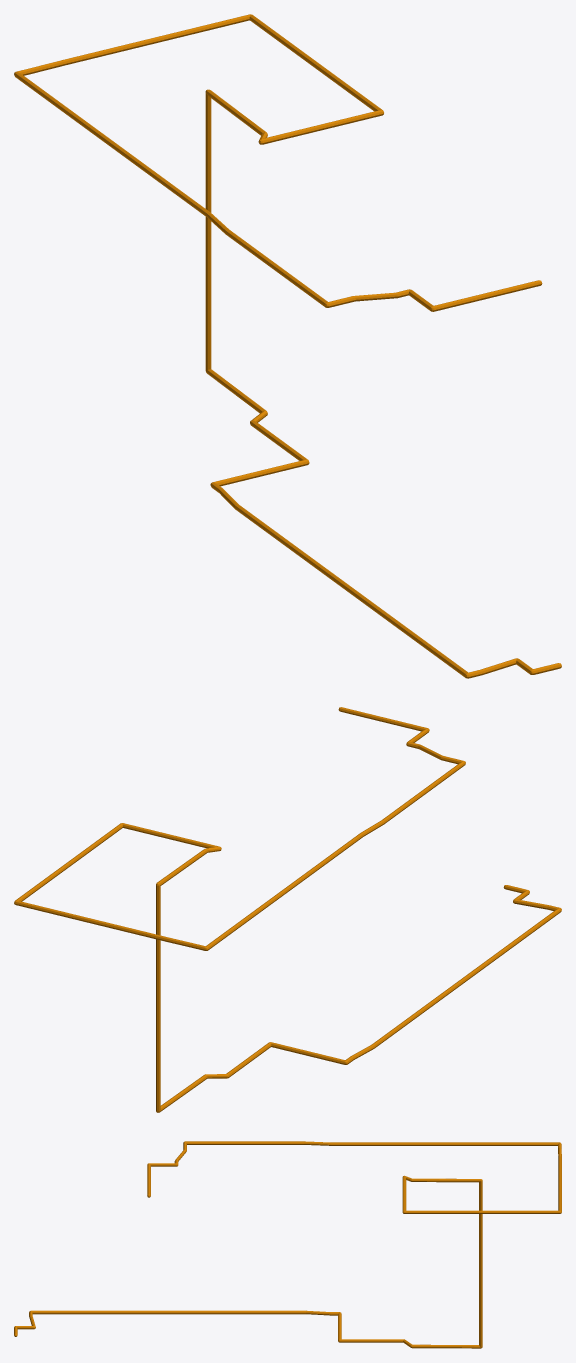
3 views of the same model, one above another, from view 1: azimuth 30°, elevation 25°; view 2: azimuth 150°, elevation 25°; view 3: azimuth 270°, elevation 25° (orthographic). The views are drawn at different scales.
Size of the model in its own units: 912 by 1020 by 2989.
